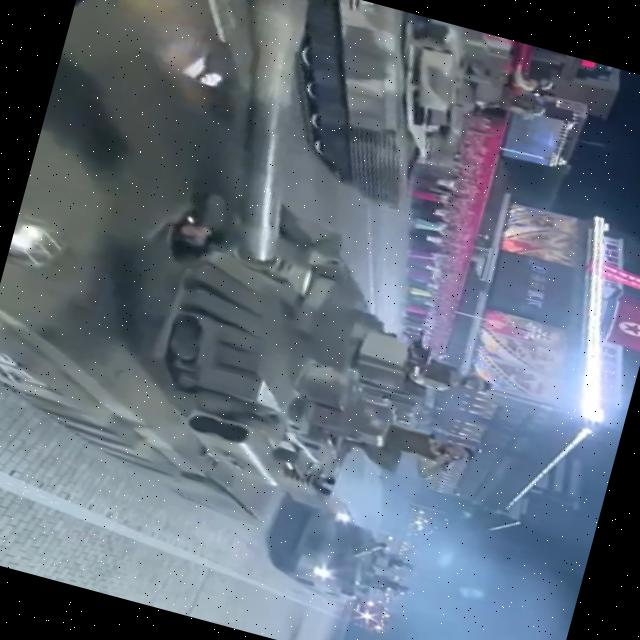north tank: (0, 0, 532, 569), (229, 0, 562, 243), (240, 464, 453, 631)
